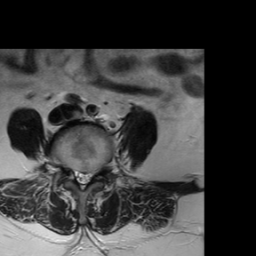CCS_normal: (78, 164, 86, 194)
LFS_stenosis: (93, 159, 101, 183)
LLS_stenosis: (86, 165, 93, 190)
RFS_severe_stenosis: (64, 158, 71, 181)
RLS_stenosis: (71, 162, 78, 187)
